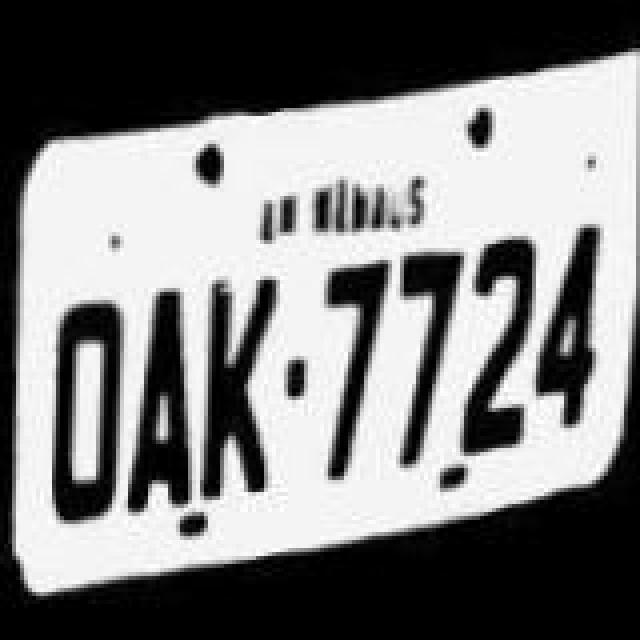2: (452, 220, 536, 460)
4: (530, 212, 610, 440)
7: (310, 248, 394, 500), (388, 238, 472, 470)
A: (124, 270, 204, 522)
K: (196, 264, 276, 512)
O: (44, 290, 128, 538)
